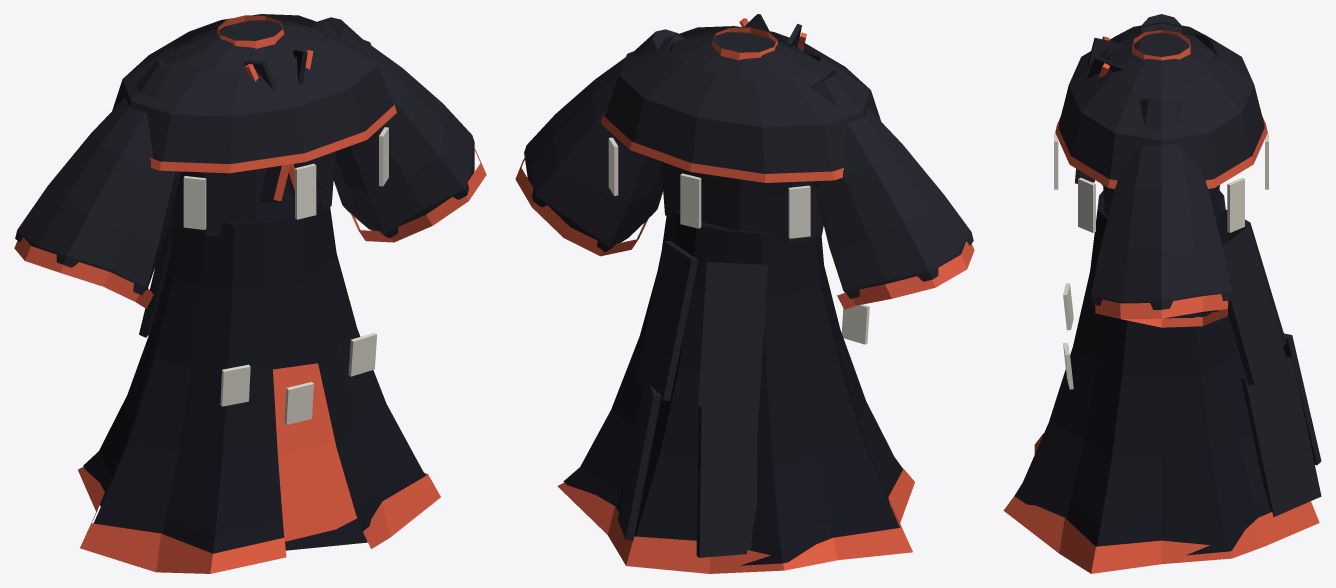
The model's file is gear_dopo_t4.glb.
3 renders of one model, left to right at view 1: azimuth 30°, elevation 25°; view 2: azimuth 150°, elevation 25°; view 3: azimuth 270°, elevation 25°, orthographic. The views are drawn at different scales.
Visible parts, largest first — view 1: gear_dopo_t4; view 2: gear_dopo_t4; view 3: gear_dopo_t4.
Boxes of the visible parts, left/top/right/bottom form: gear_dopo_t4: left=14, top=14, right=486, bottom=573; gear_dopo_t4: left=515, top=14, right=974, bottom=573; gear_dopo_t4: left=1003, top=14, right=1321, bottom=573.
Bounding box in the file's own units: 1.42 × 1.48 × 0.9051.
